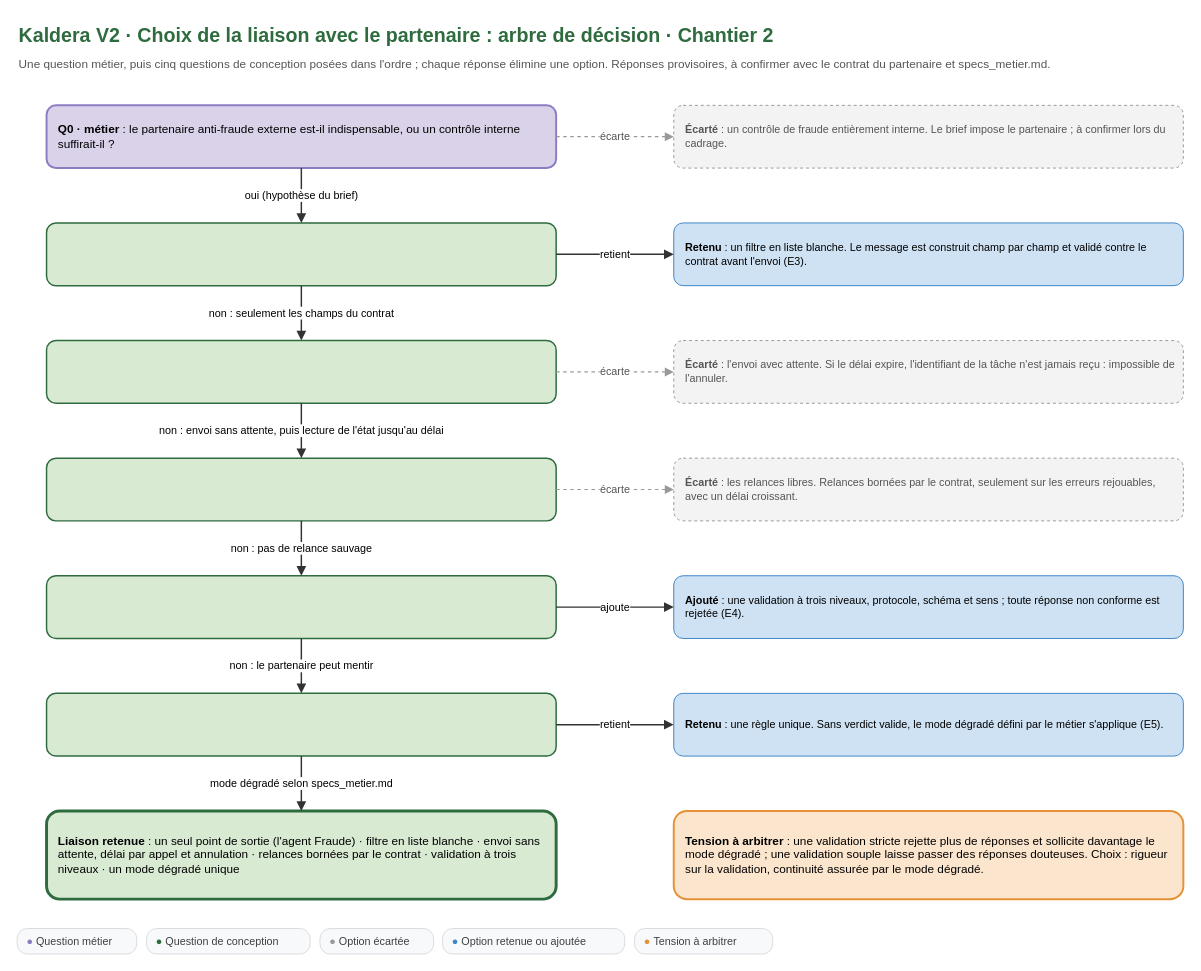
Some shapes in this 1201 by 971 pixel diagram are drawn without their labels. Each missing label, with the centre of its shape:
"Q1 : le partenaire peut-il recevoir toutes les données de la demande ?" goes at (300,254).
"Q2 : faut-il bloquer l'appel jusqu'à la réponse du partenaire ?" goes at (300,371).
"Q3 : peut-on relancer librement un appel en échec ?" goes at (300,489).
"Q4 : une réponse bien formée est-elle forcément fiable ?" goes at (300,607).
"Q5 : que fait la demande quand aucun verdict valide n'arrive ?" goes at (300,724).
